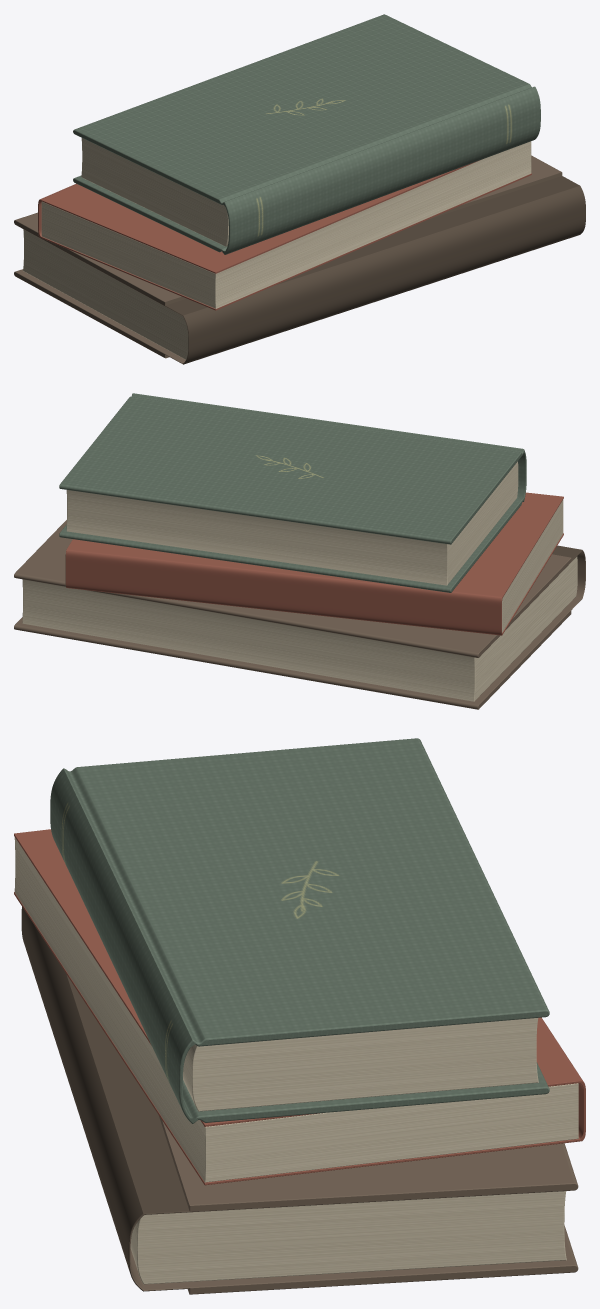
Rendered from desk-books.glb.
3 renders of one model, top to bottom at view 1: azimuth 30°, elevation 25°; view 2: azimuth 150°, elevation 25°; view 3: azimuth 270°, elevation 25°, orthographic. The views are drawn at different scales.
Visible parts, largest first — view 1: Field notebook cover, Cloth-back atlas cover, Terracotta paperback pages, Terracotta paperback cover, Cloth-back atlas pages, Field notebook pages; view 2: Field notebook cover, Cloth-back atlas pages, Terracotta paperback cover, Field notebook pages, Cloth-back atlas cover, Terracotta paperback pages; view 3: Field notebook cover, Cloth-back atlas cover, Terracotta paperback pages, Cloth-back atlas pages, Field notebook pages, Terracotta paperback cover.
Part boxes in pixels (<box>): Field notebook cover: <box>73,14,540,254</box>; Cloth-back atlas cover: <box>14,155,585,364</box>; Terracotta paperback pages: <box>41,141,531,308</box>; Terracotta paperback cover: <box>38,160,531,310</box>; Cloth-back atlas pages: <box>23,229,188,359</box>; Field notebook pages: <box>81,138,228,246</box>; Field notebook cover: <box>59,393,526,592</box>; Cloth-back atlas pages: <box>22,556,577,701</box>; Terracotta paperback cover: <box>65,492,563,635</box>; Field notebook pages: <box>66,461,518,585</box>; Cloth-back atlas cover: <box>14,520,585,709</box>; Terracotta paperback pages: <box>502,499,563,632</box>; Field notebook cover: <box>50,738,549,1123</box>; Cloth-back atlas cover: <box>21,907,578,1294</box>; Terracotta paperback pages: <box>14,837,578,1182</box>; Cloth-back atlas pages: <box>130,1191,566,1284</box>; Field notebook pages: <box>183,1018,538,1111</box>; Terracotta paperback cover: <box>14,829,585,1185</box>.
Size of the model in its own units: 1.46 by 0.445 by 0.9831.
Materials: 5 (2 with a texture image).
